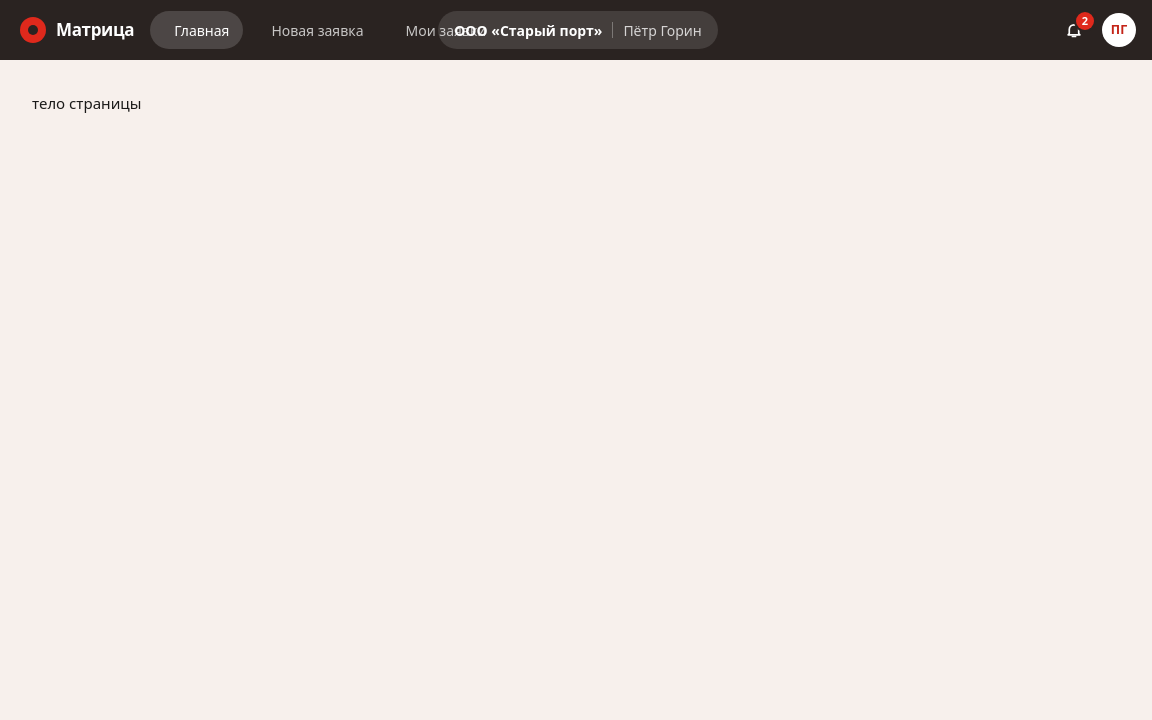
Test: AppShell › closes a window on Escape and on a click outside
Click the button with aria-label "Аккаунт".
click(1119, 30)  # box [1102, 13, 1136, 47]
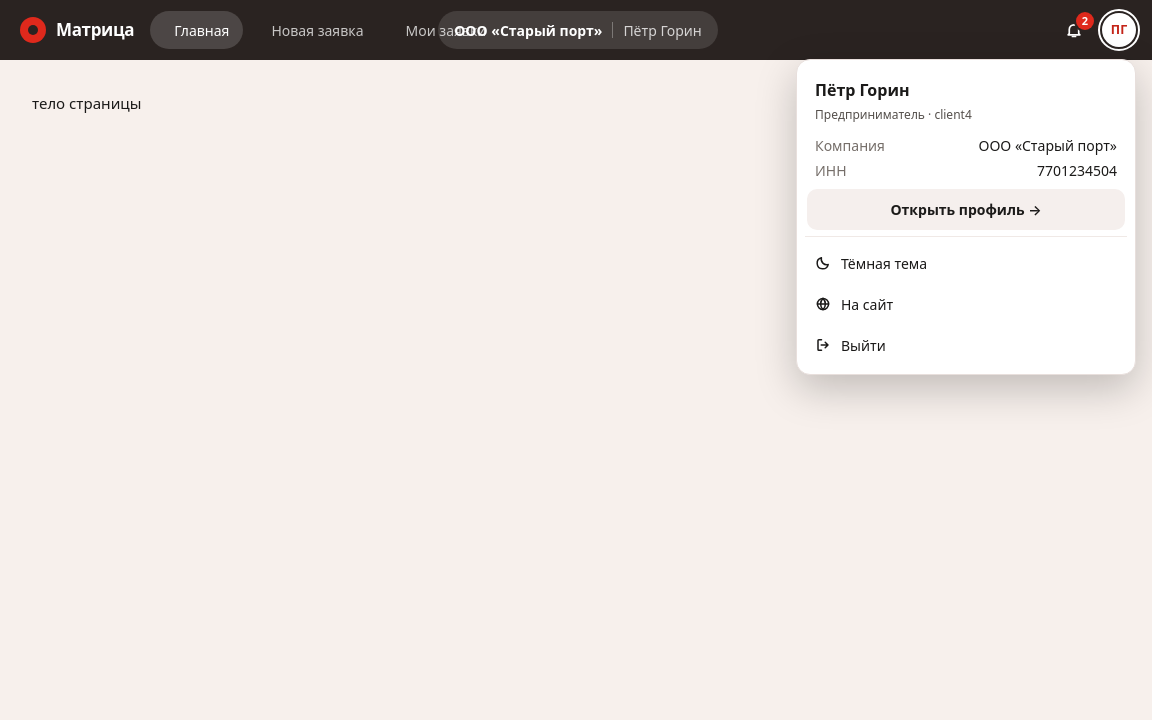
Press Escape
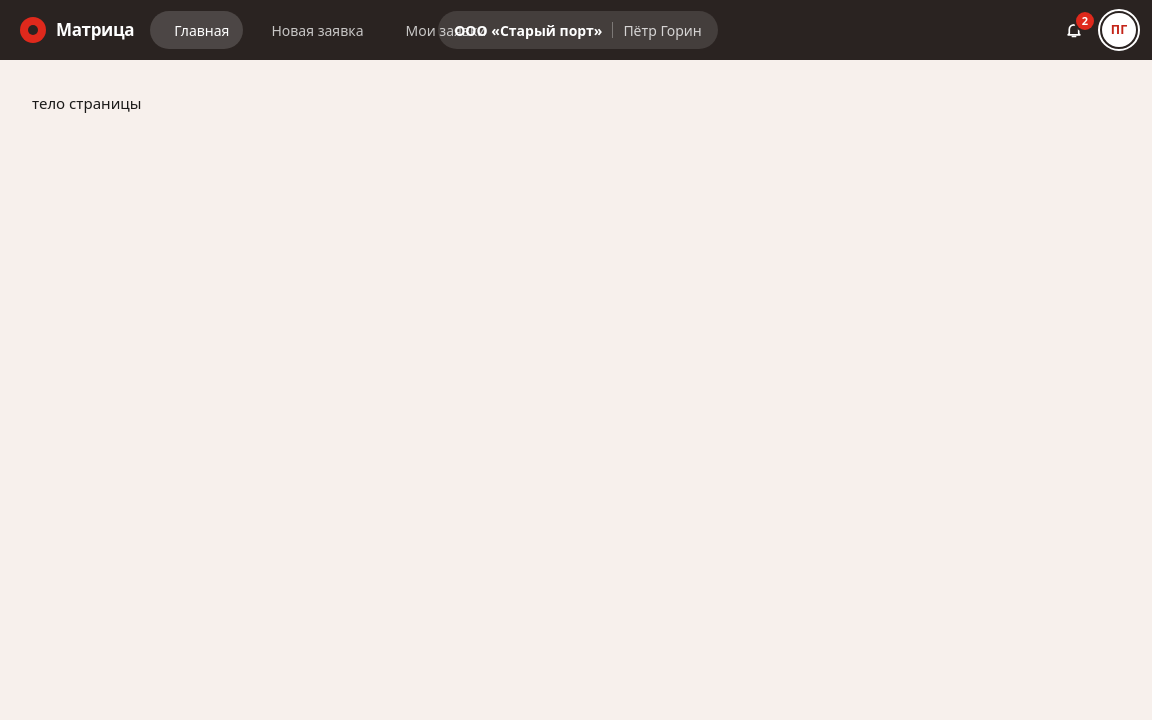
Expected: the dialog is gone
Click the button with aria-label "Аккаунт".
click(1119, 30)  # box [1102, 13, 1136, 47]
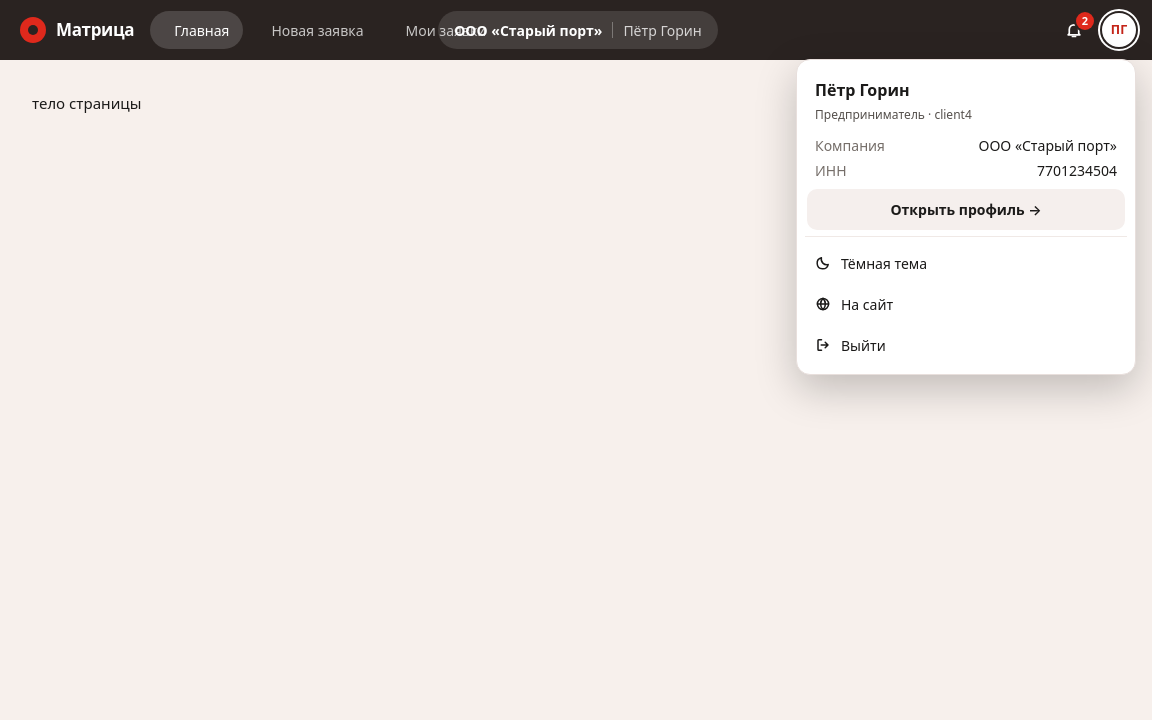
Click the text "тело страницы".
click(87, 103)  # box [32, 93, 141, 113]
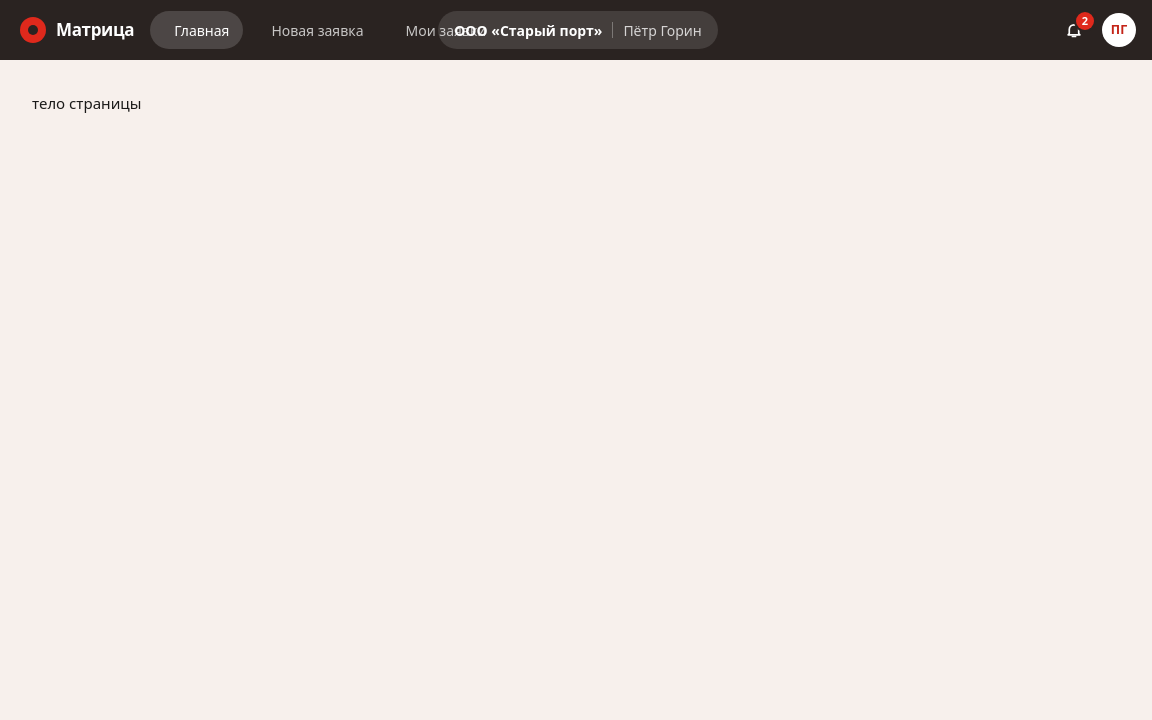
Expected: the dialog is gone
